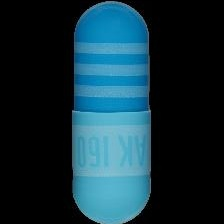68084-932: (0, 0, 224, 224)
